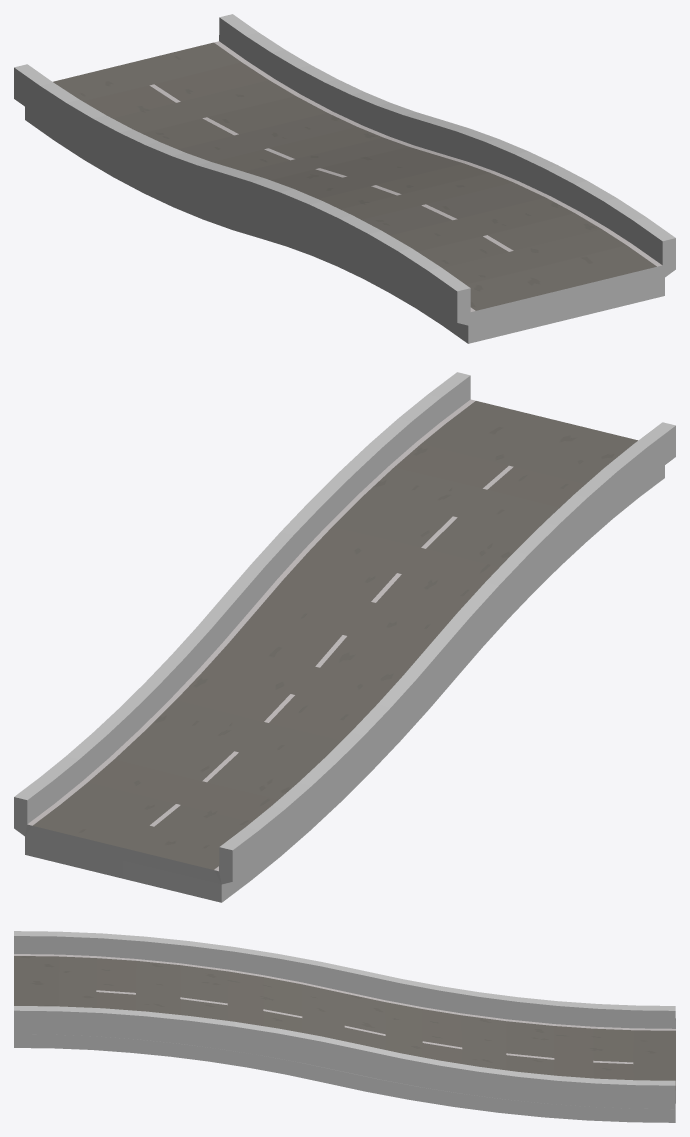
File: SM_Env_Road_Highway_Ramp_02.fbx
The picture shows the model from 3 angles, top to bottom: view 1: azimuth 30°, elevation 25°; view 2: azimuth 150°, elevation 25°; view 3: azimuth 270°, elevation 25°; orthographic projection. The views are drawn at different scales.
Parts seen in each view (by area): view 1: SM_Env_Road_Highway_Ramp_02; view 2: SM_Env_Road_Highway_Ramp_02; view 3: SM_Env_Road_Highway_Ramp_02.
Boxes of the visible parts, <box> form: SM_Env_Road_Highway_Ramp_02: <box>14,14,675,343</box>; SM_Env_Road_Highway_Ramp_02: <box>14,372,675,902</box>; SM_Env_Road_Highway_Ramp_02: <box>14,931,675,1122</box>.
Bounding box in the file's own units: 1140 × 775 × 4002.
